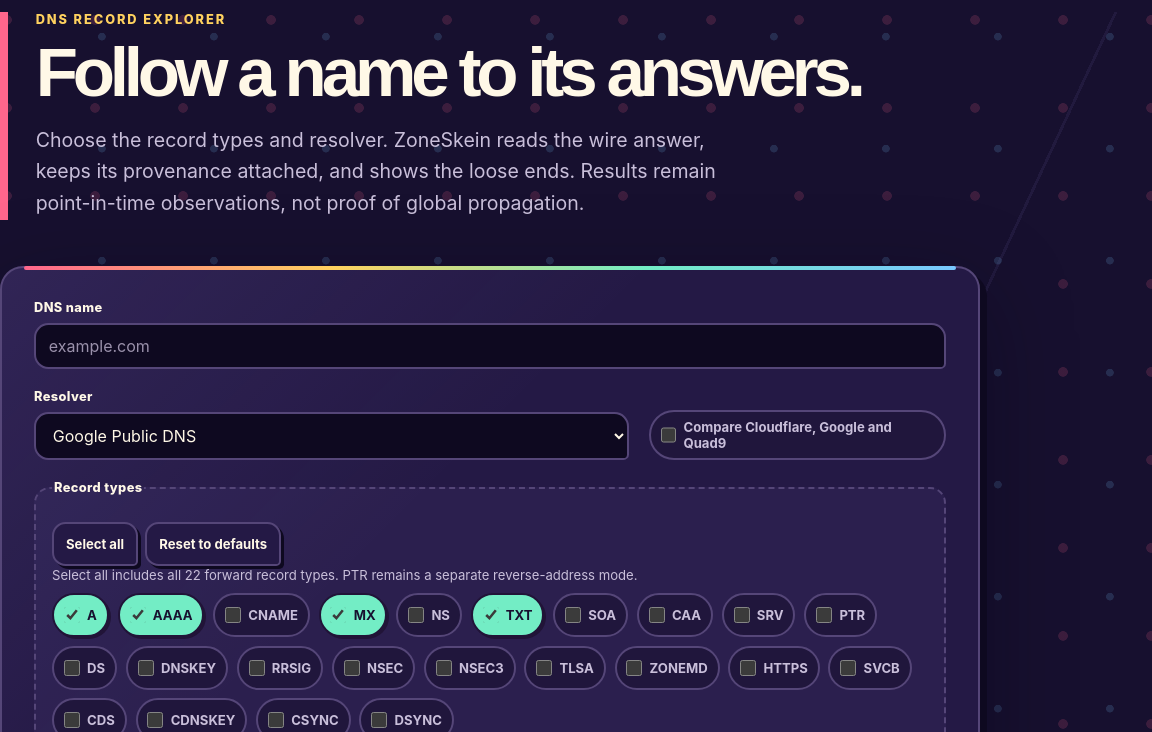
Test: DNS record explorer › offers one automatic Quad9 choice with its fallback privacy disclosure
Select "Quad9" in the dropdown labelled "Resolver". click: (331, 436)
box: [34,412,629,460]
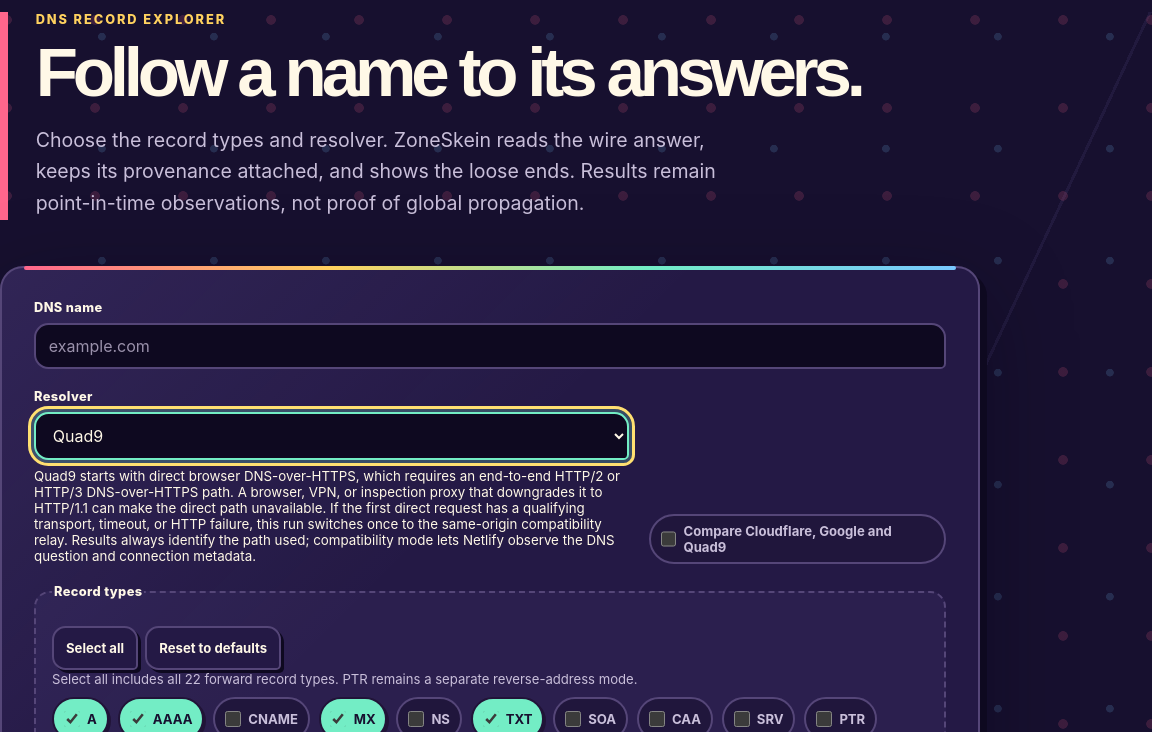
Result: the text "lets Netlify observe the DNS question" is shown at [34,468,620,564]
